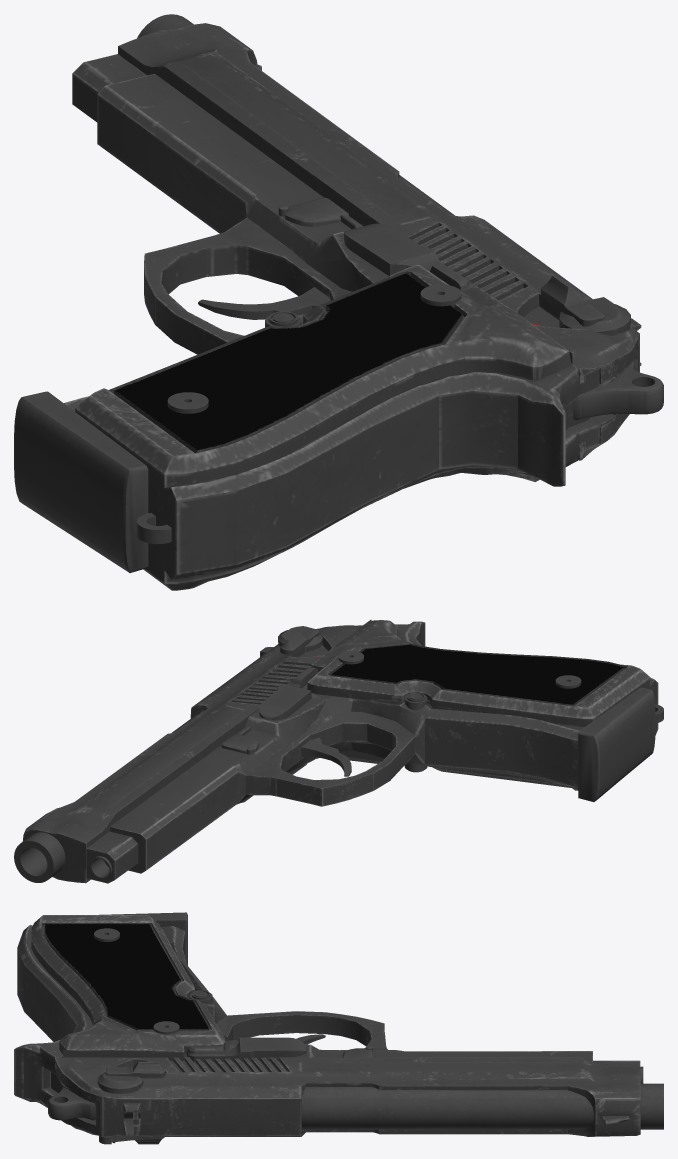
The model's file is Gun.fbx.
3 renders of one model, top to bottom at view 1: azimuth 30°, elevation 25°; view 2: azimuth 150°, elevation 25°; view 3: azimuth 270°, elevation 25°, orthographic. The views are drawn at different scales.
Visible parts, largest first — view 1: Pistol_Body, Pistol_Top, Pistol_Magazine, Pistol_Injector, Pistol_Trigger, Pistol_Pipe; view 2: Pistol_Body, Pistol_Top, Pistol_Magazine, Pistol_Pipe, Pistol_Trigger, Pistol_Pointer; view 3: Pistol_Body, Pistol_Top, Pistol_Pipe, Pistol_Injector, Pistol_Magazine.
Part boxes in pixels (x1,y1,x2,y2): Pistol_Body: (64, 54, 615, 590); Pistol_Top: (118, 23, 641, 460); Pistol_Magazine: (14, 391, 148, 572); Pistol_Injector: (573, 361, 663, 419); Pistol_Trigger: (198, 287, 330, 319); Pistol_Pipe: (137, 14, 454, 215); Pistol_Body: (86, 619, 663, 883); Pistol_Top: (22, 625, 362, 883); Pistol_Magazine: (578, 687, 655, 801); Pistol_Pipe: (14, 710, 204, 882); Pistol_Trigger: (301, 737, 351, 776); Pistol_Pointer: (90, 856, 112, 879); Pistol_Body: (14, 915, 640, 1107); Pistol_Top: (55, 1057, 640, 1144); Pistol_Pipe: (301, 1083, 663, 1129); Pistol_Injector: (48, 1086, 95, 1120); Pistol_Magazine: (99, 912, 187, 965).
Bounding box in the file's own units: 389 × 89.55 × 595.
1 material, 1 textured.
